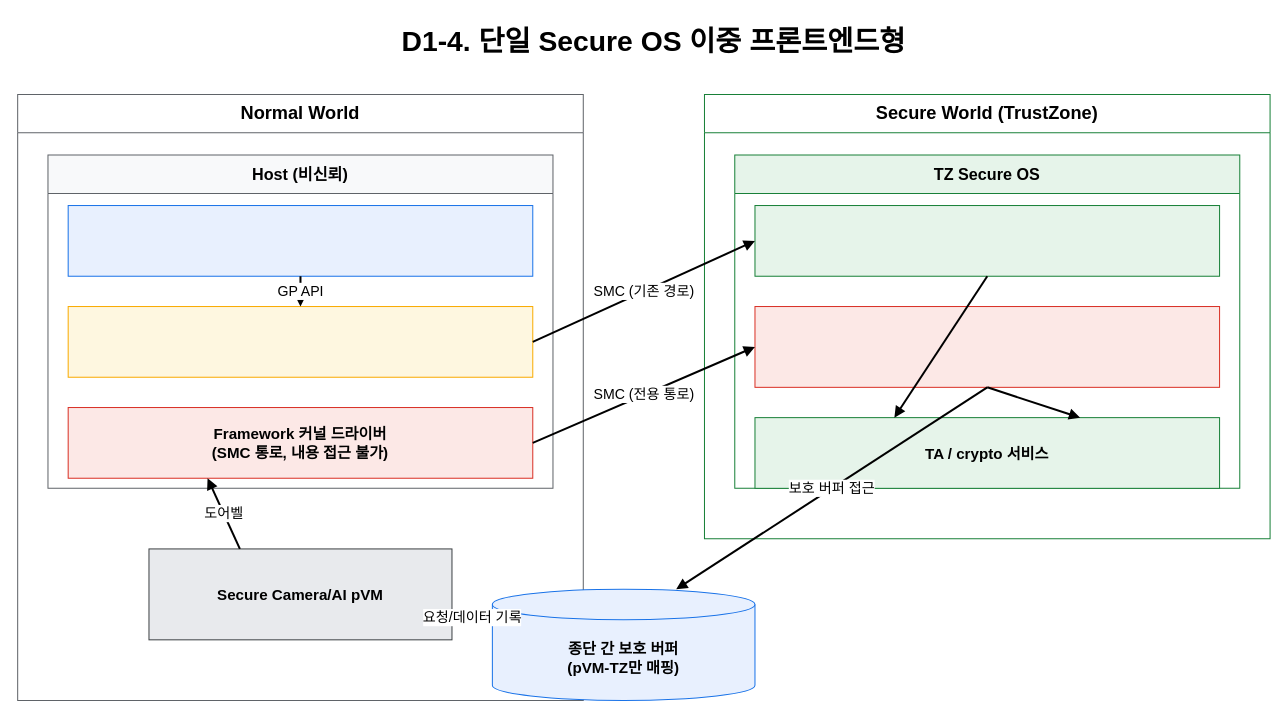
Some shapes in this 1288 by 718 pixel diagram are drawn without their labels. The shapes that lost their labels are listed below. From the top down, each one's centre as x and y in pixels, then its label:
(x=300, y=240): 기존 REE App (libteec)
(x=987, y=240): REE 프론트엔드 (기존 dispatcher, 무수정)
(x=300, y=341): 기존 TEE 드라이버 (무수정)
(x=987, y=346): pVM 프론트엔드 (신규 추가) 세션 도메인 구분
